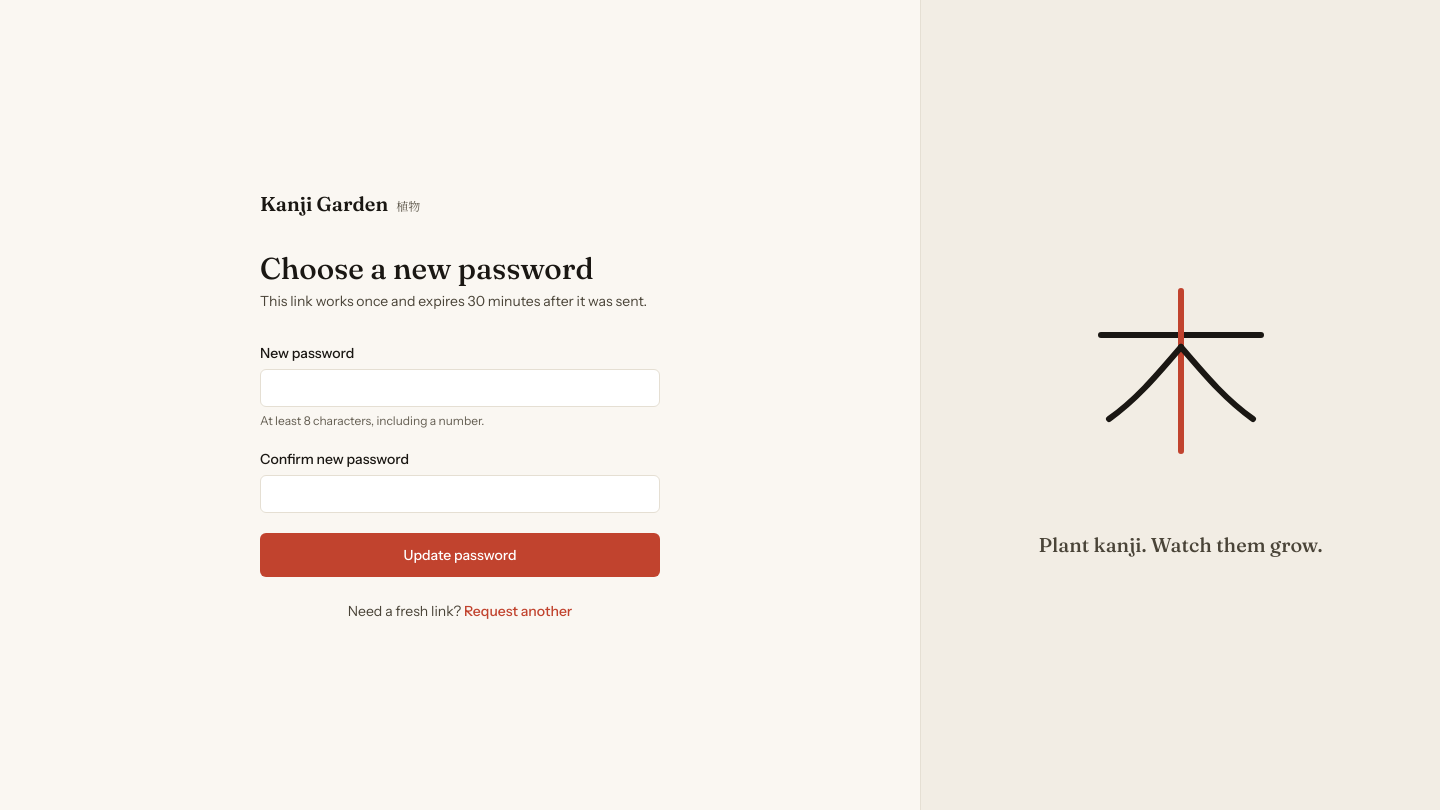
Scenario: reset password screen (D21) › requires matching passwords
Type "newgarden456" into the password field labelled "New password" at (460, 388), box top-left (260, 369), bottom-right (660, 407)
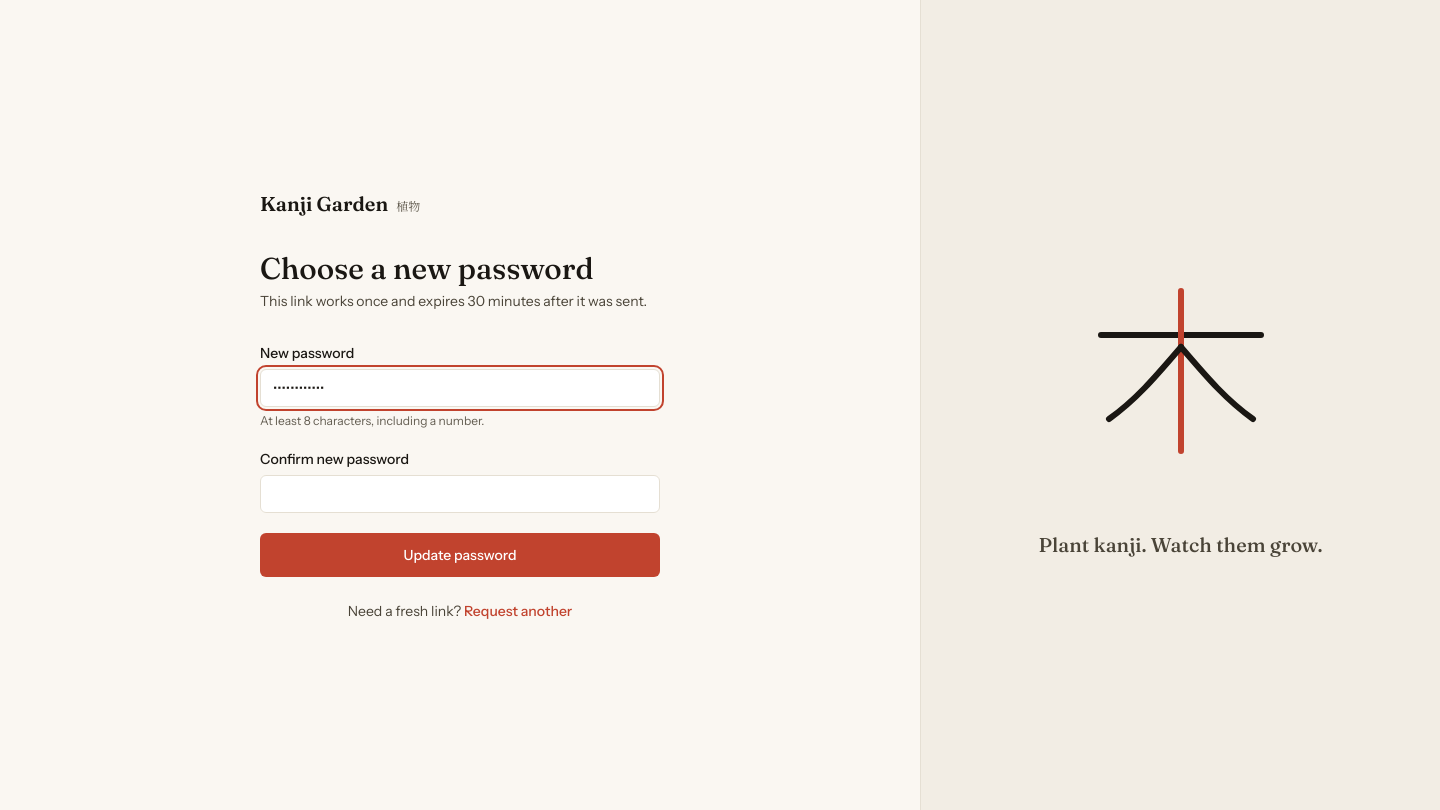
Type "different123" into the password field labelled "Confirm new password" at (460, 494), box top-left (260, 475), bottom-right (660, 513)
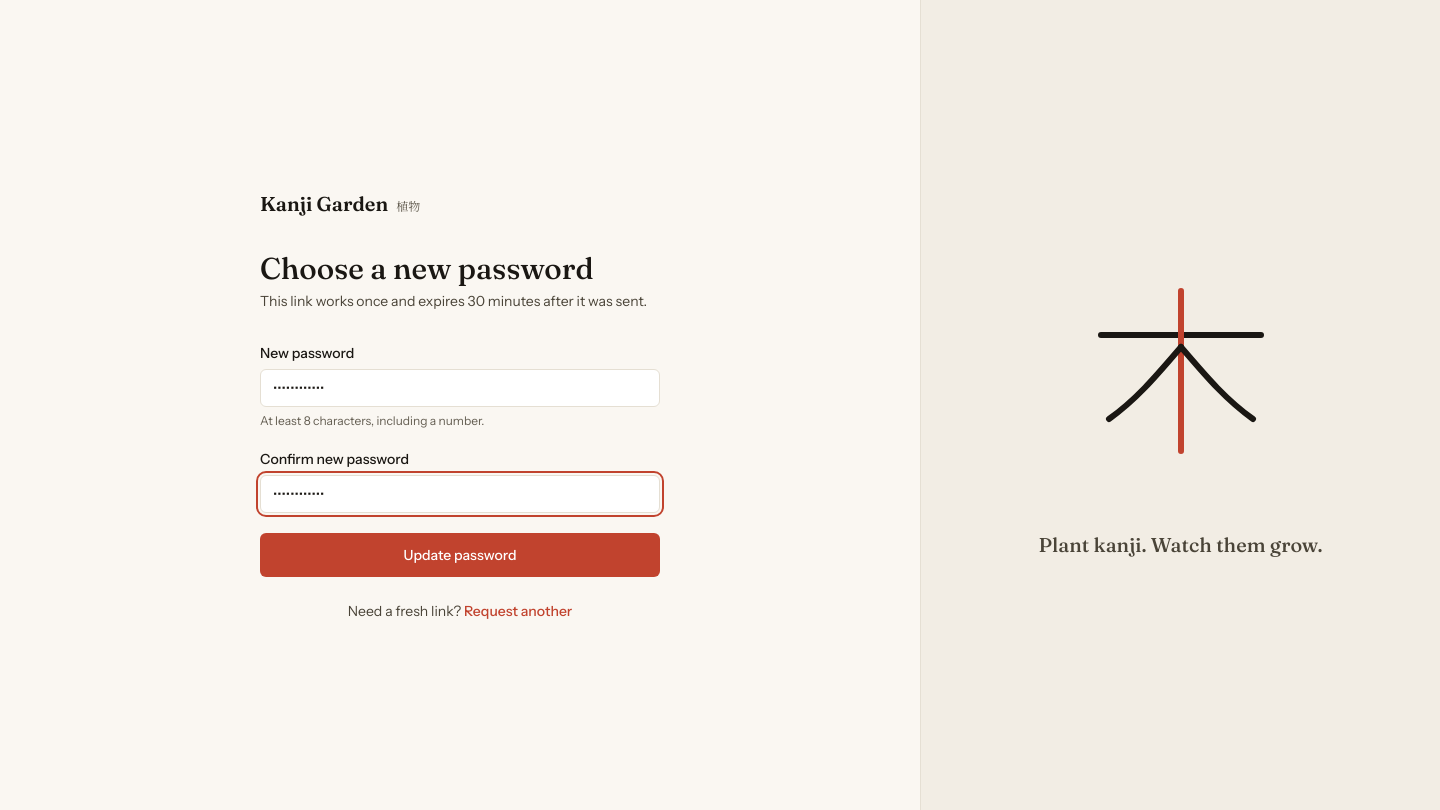
Click the button "Update password" at (460, 555), box top-left (260, 533), bottom-right (660, 577)
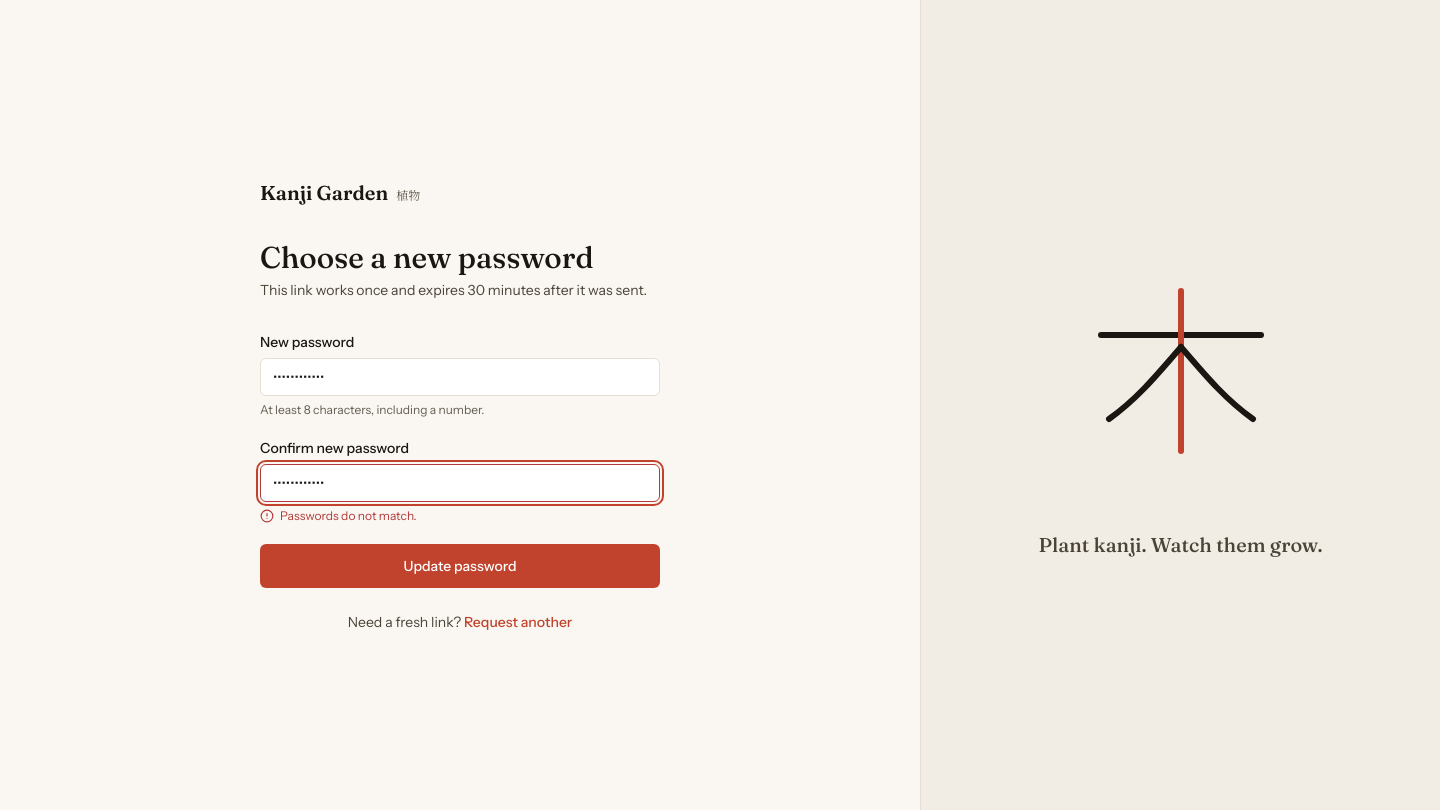
Result: the text "Passwords do not match." is shown at top-left (260, 508), bottom-right (417, 523)
